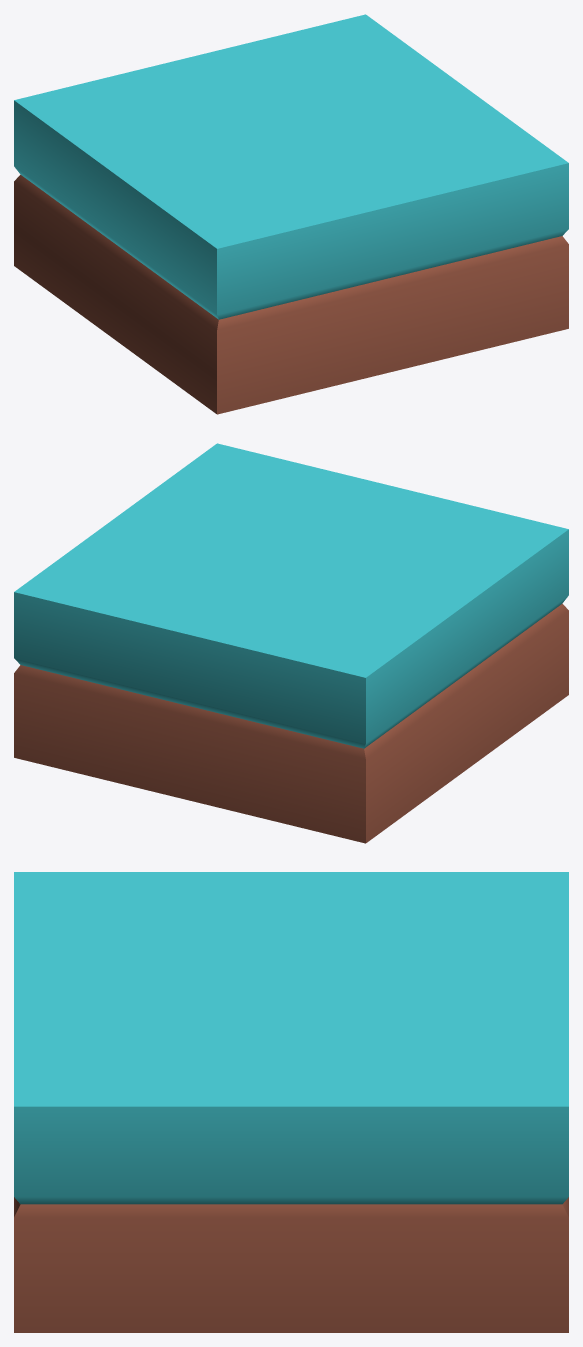
The model's file is square_water_detail.glb.
3 renders of one model, top to bottom at view 1: azimuth 30°, elevation 25°; view 2: azimuth 150°, elevation 25°; view 3: azimuth 270°, elevation 25°, orthographic. The views are drawn at different scales.
Parts seen in each view (by area): view 1: square_water_detail; view 2: square_water_detail; view 3: square_water_detail.
Part boxes in pixels (x1,y1,x2,y2): square_water_detail: (14,14,568,414); square_water_detail: (14,443,568,843); square_water_detail: (14,872,568,1332).
Size of the model in its own units: 8 by 3.6 by 8.
